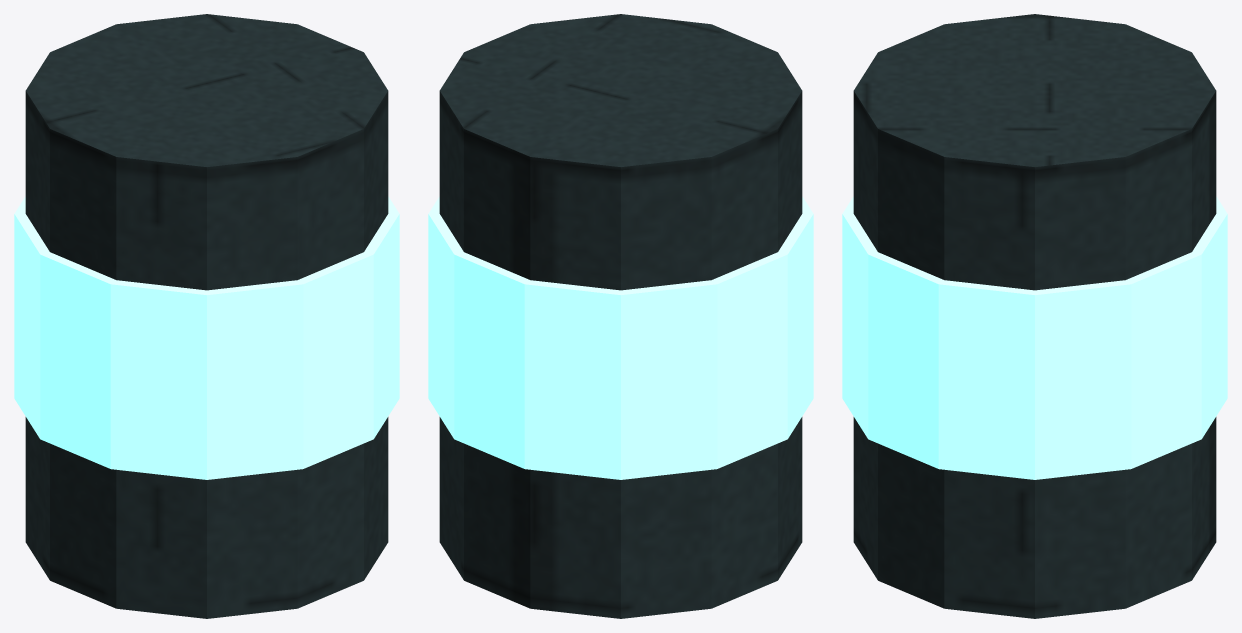
File: power_cell.glb
3 renders of one model, left to right at view 1: azimuth 30°, elevation 25°; view 2: azimuth 150°, elevation 25°; view 3: azimuth 270°, elevation 25°, orthographic.
Visible parts, largest first — view 1: power_cell_metal.015, power_cell_blue.015; view 2: power_cell_metal.015, power_cell_blue.015; view 3: power_cell_metal.015, power_cell_blue.015.
Boxes of the visible parts, x1,y1,x2,y2 form: power_cell_metal.015: (25,14,388,618); power_cell_blue.015: (14,196,399,479); power_cell_metal.015: (439,14,802,618); power_cell_blue.015: (428,196,813,479); power_cell_metal.015: (853,14,1216,618); power_cell_blue.015: (842,196,1227,479).
Size of the model in its own units: 0.34 by 0.44 by 0.34.
2 materials, 1 textured.
